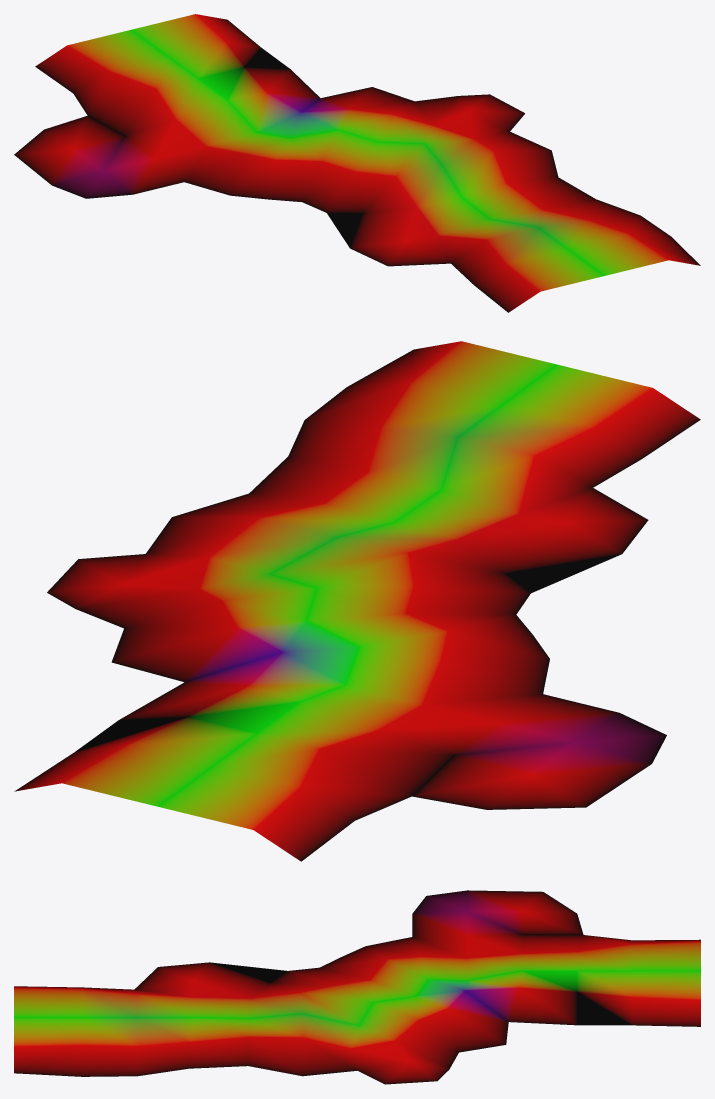
File: Section_WayLine04_Swamp_Terrain.fbx
The picture shows the model from 3 angles, top to bottom: view 1: azimuth 30°, elevation 25°; view 2: azimuth 150°, elevation 25°; view 3: azimuth 270°, elevation 25°; orthographic projection. The views are drawn at different scales.
Parts seen in each view (by area): view 1: Section_WayLine04_Swamp_Terrain; view 2: Section_WayLine04_Swamp_Terrain; view 3: Section_WayLine04_Swamp_Terrain.
Part boxes in pixels (left/top/right/bottom): Section_WayLine04_Swamp_Terrain: left=14, top=14, right=700, bottom=312; Section_WayLine04_Swamp_Terrain: left=14, top=341, right=700, bottom=861; Section_WayLine04_Swamp_Terrain: left=14, top=890, right=700, bottom=1084.
Bounding box in the file's own units: 3342 × 100 × 5000.
